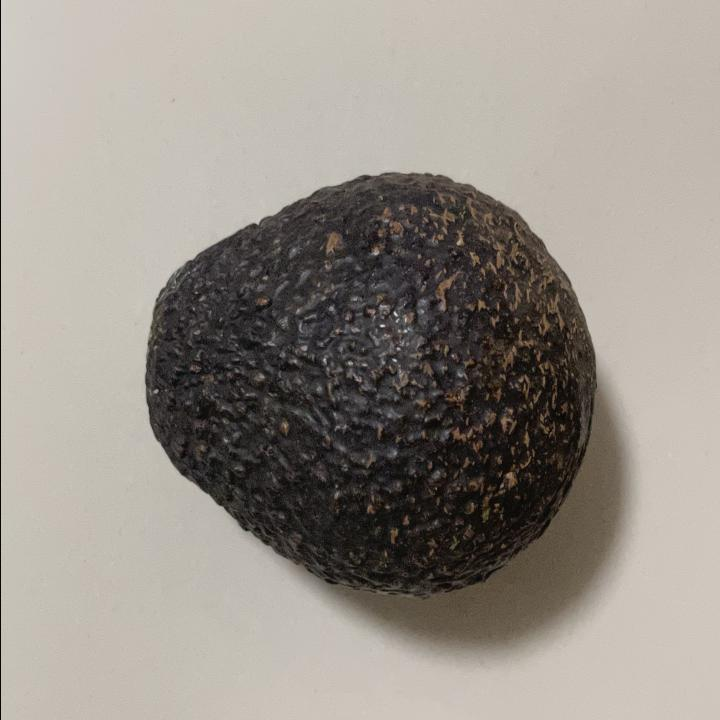Level2: (133, 163, 598, 604)
